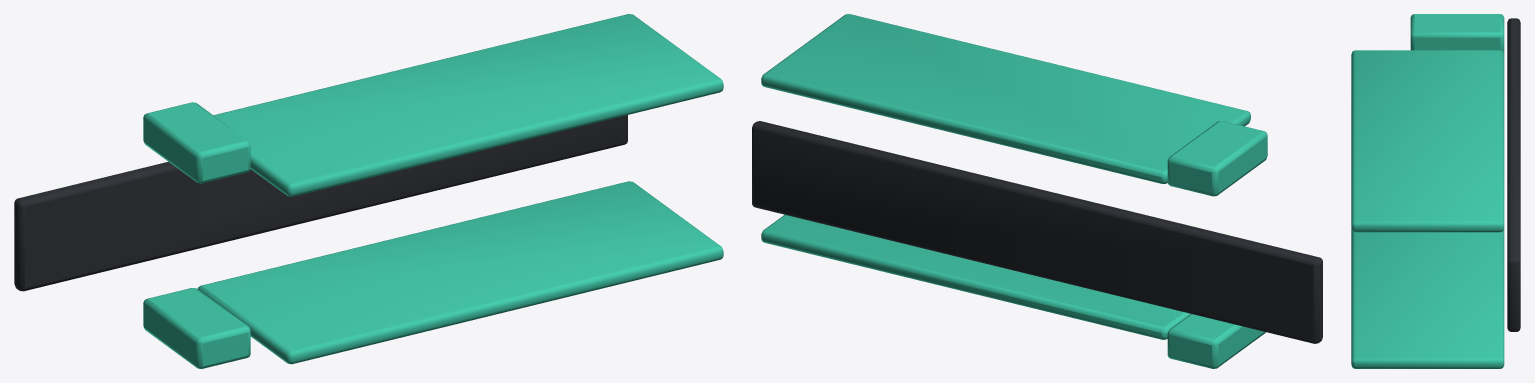
File: wheel_shuttle_r.obj
The picture shows the model from 3 angles, left to right: view 1: azimuth 30°, elevation 25°; view 2: azimuth 150°, elevation 25°; view 3: azimuth 270°, elevation 25°; orthographic projection. The views are drawn at different scales.
Visible parts, largest first — view 1: wheel_shuttle_r; view 2: wheel_shuttle_r; view 3: wheel_shuttle_r.
Boxes of the visible parts, x1,y1,x2,y2 form: wheel_shuttle_r: [14, 14, 723, 368]; wheel_shuttle_r: [752, 14, 1322, 368]; wheel_shuttle_r: [1351, 14, 1520, 368].
Size of the model in its own units: 0.282 by 0.096 by 0.083.
